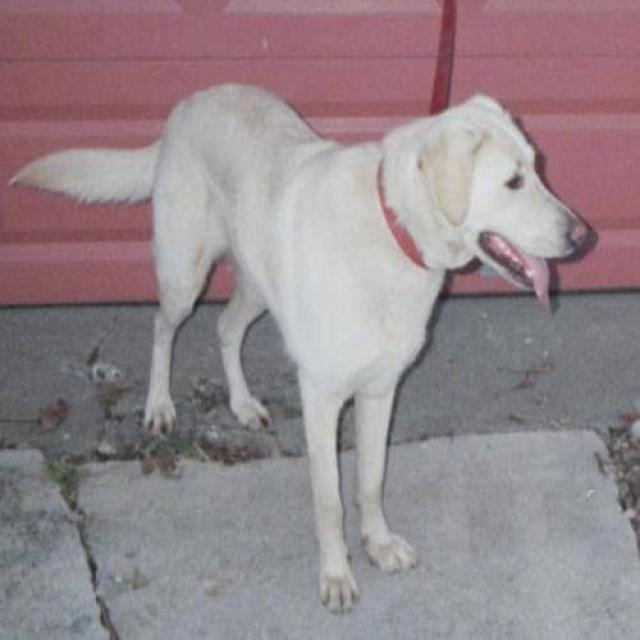dog: (0, 17, 595, 626)
